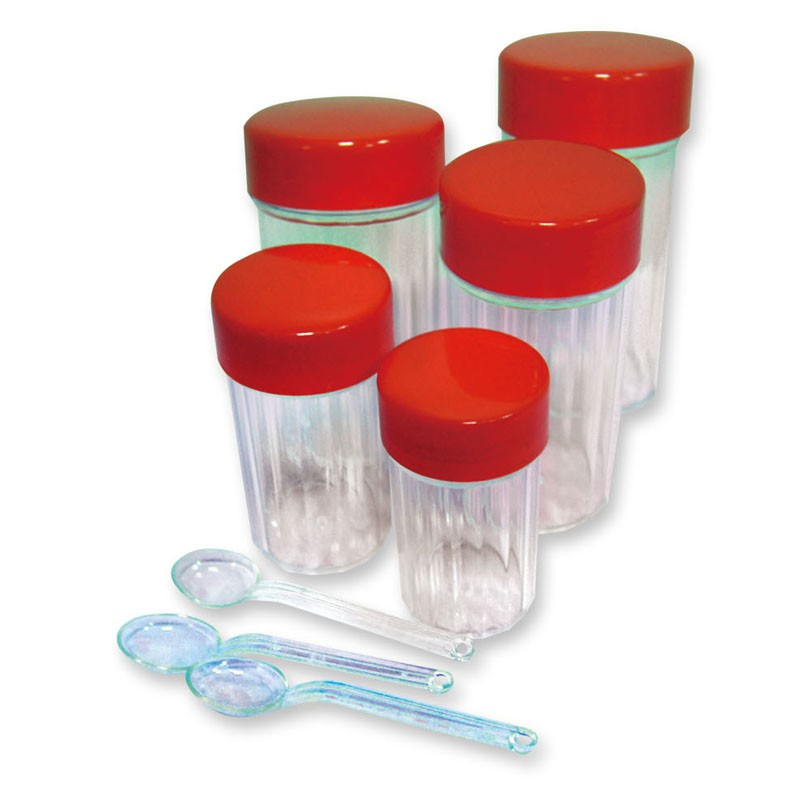medicinejar: (222, 92, 448, 507), (496, 31, 702, 429), (435, 135, 630, 541), (203, 244, 403, 585), (374, 332, 555, 645)
